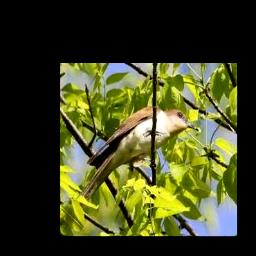Cuckoo: (75, 107, 199, 212)
